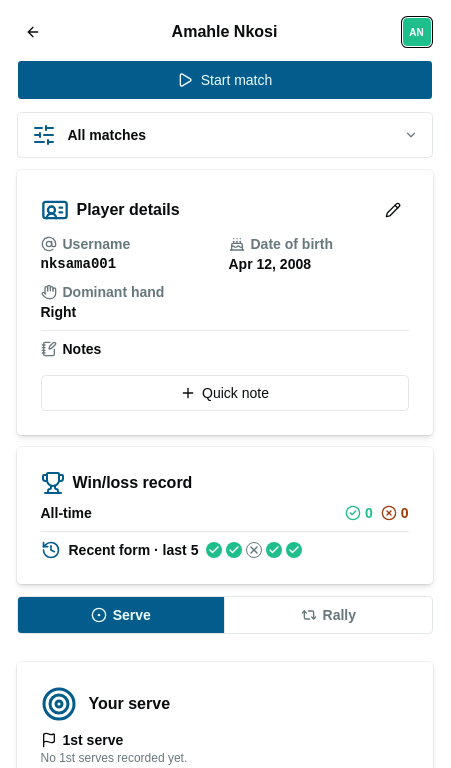
Test: switches to Rally when its toggle is clicked, scope panel and recent form stay put
The width and height of the screenshot is (451, 768).
Expected: the heading "Amahle Nkosi" is shown, x1=172 y1=20 x2=277 y2=44
Expected: the text "Your serve" is shown, x1=88 y1=692 x2=170 y2=716
Click the button "Rally". click: (328, 615)
box: x1=224 y1=597 x2=432 y2=633
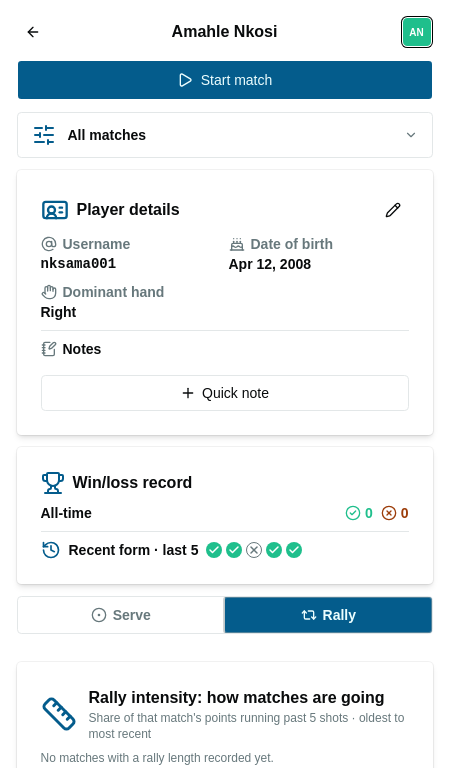
Expected: the text "All matches" is shown, x1=68 y1=127 x2=146 y2=143
Now the text "Your serve" is gone
